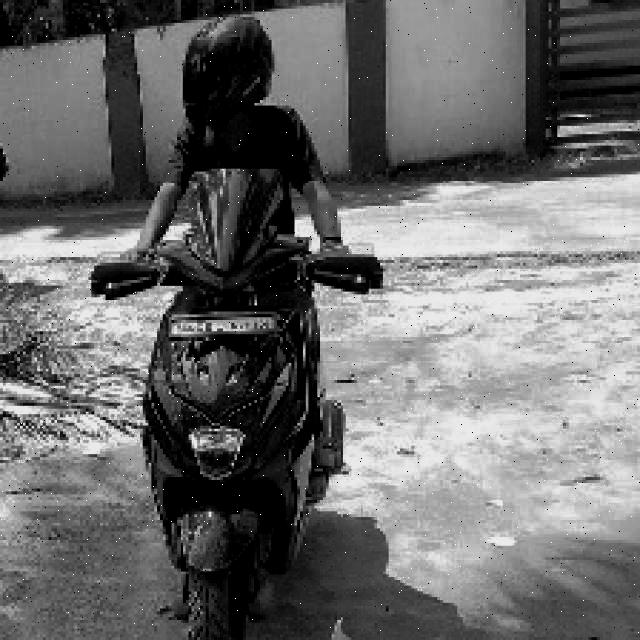Bike: (119, 242, 356, 629)
